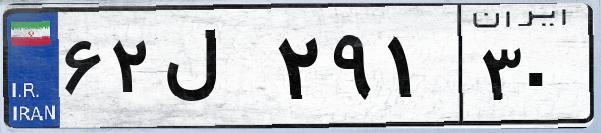0: (525, 38, 570, 115)
1: (385, 28, 445, 110)
2: (270, 28, 330, 110), (110, 28, 158, 98)
3: (475, 38, 525, 113)
6: (57, 26, 110, 100)
9: (330, 28, 385, 110)
ل: (158, 20, 270, 120)
